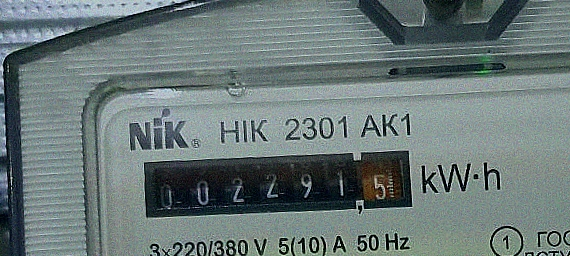0: (155, 179, 175, 209), (193, 176, 211, 206)
1: (332, 166, 348, 201)
2: (228, 174, 246, 204), (263, 169, 279, 199)
5: (370, 170, 388, 201)
9: (297, 169, 315, 200)
screen: (136, 137, 418, 232)
